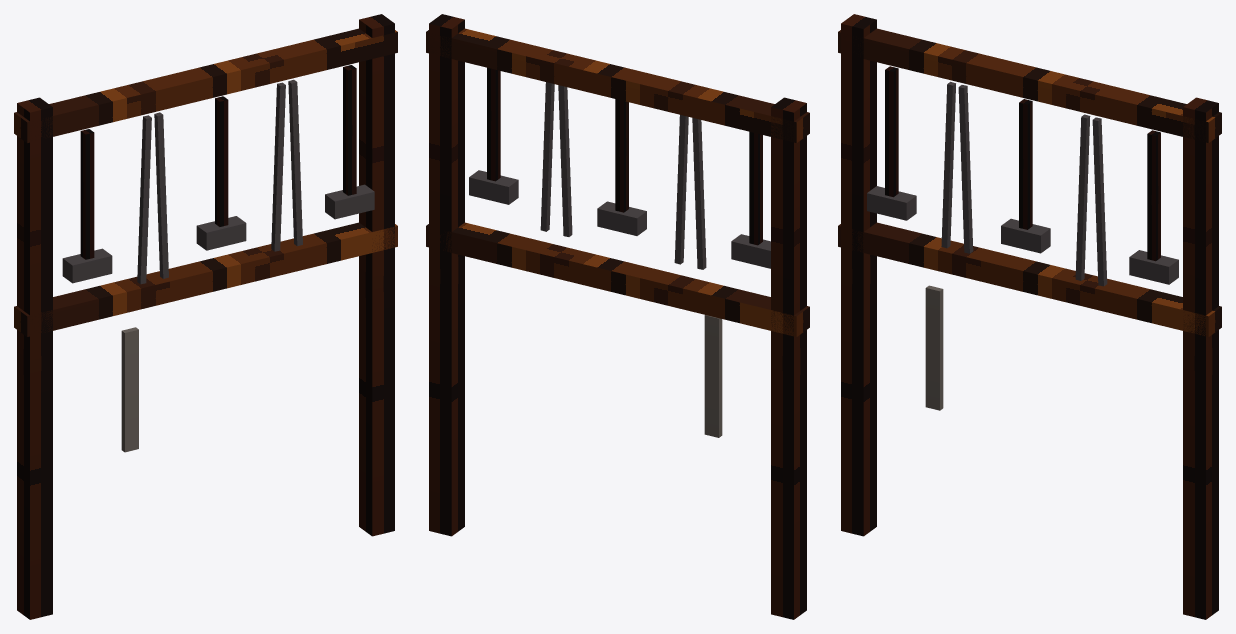
Rendered from tool_rack.glb.
3 renders of one model, left to right at view 1: azimuth 30°, elevation 25°; view 2: azimuth 150°, elevation 25°; view 3: azimuth 330°, elevation 25°, orthographic.
Visible parts, largest first — view 1: tool_rack; view 2: tool_rack; view 3: tool_rack.
Boxes of the visible parts, box(x1,y1,x2,y2) form: tool_rack: box(14, 14, 397, 619); tool_rack: box(426, 14, 809, 619); tool_rack: box(838, 14, 1221, 619).
Bounding box in the file's own units: 1.3 × 1.7 × 0.13.
Materials: 2 (1 with a texture image).
